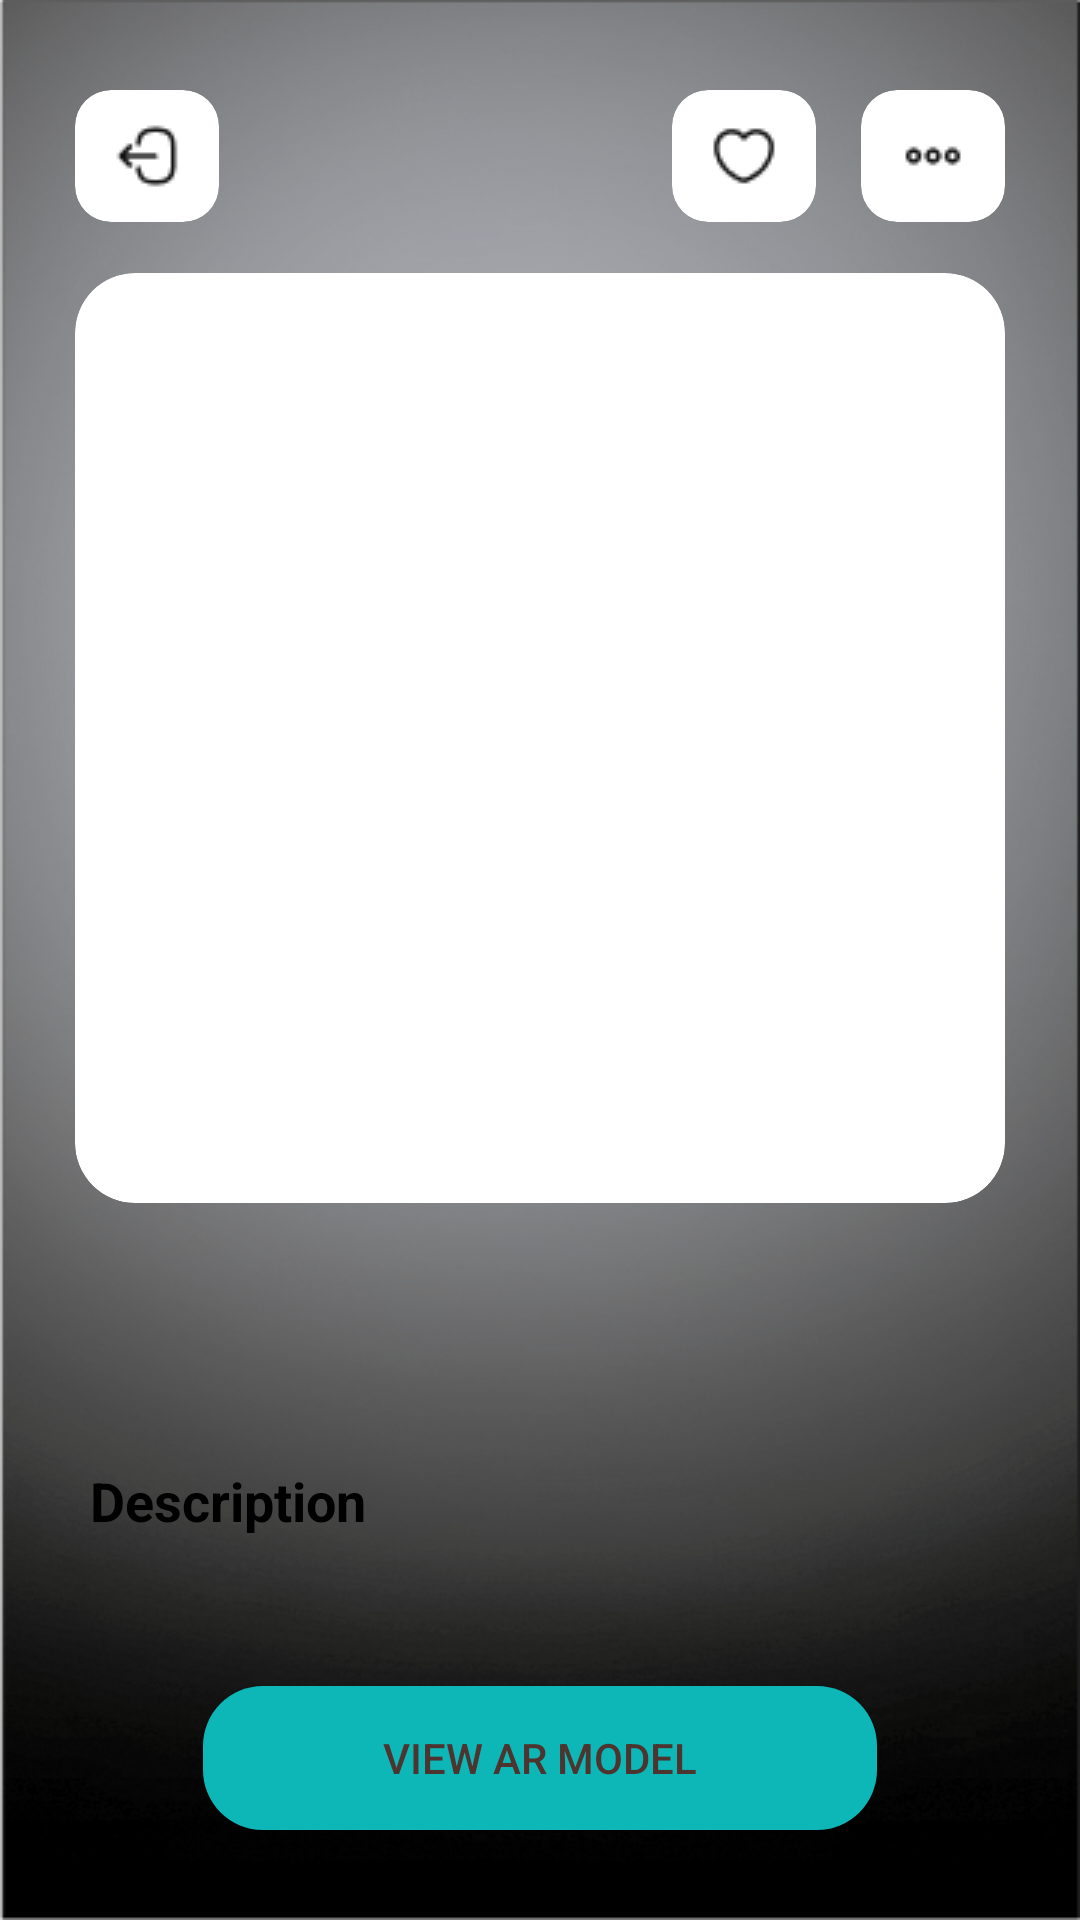

Locate icon controls on the screen. Image size 1080*1920, boxes as box(x1, y1, x2, y2).
back: box(75, 90, 219, 222)
favourite: box(672, 90, 816, 222)
more: box(861, 90, 1005, 222)
